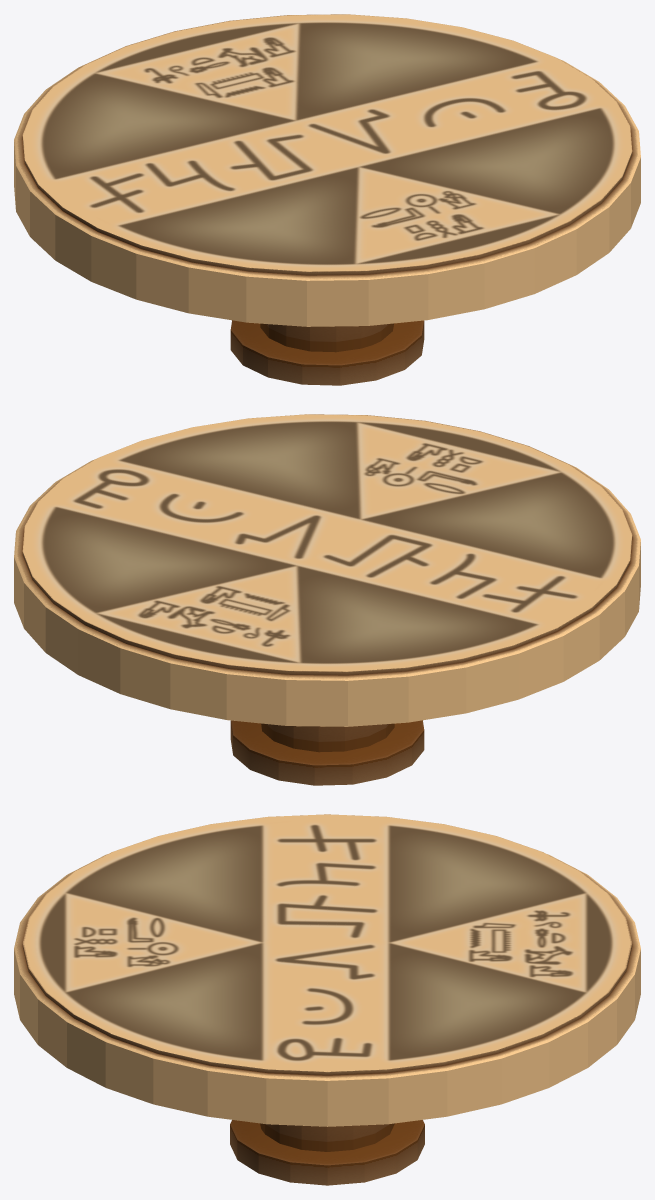
The model's file is QDS_acc_001.fbx.
3 renders of one model, top to bottom at view 1: azimuth 30°, elevation 25°; view 2: azimuth 150°, elevation 25°; view 3: azimuth 270°, elevation 25°, orthographic.
Bounding box in the file's own units: 1.6 × 0.6309 × 1.6.
